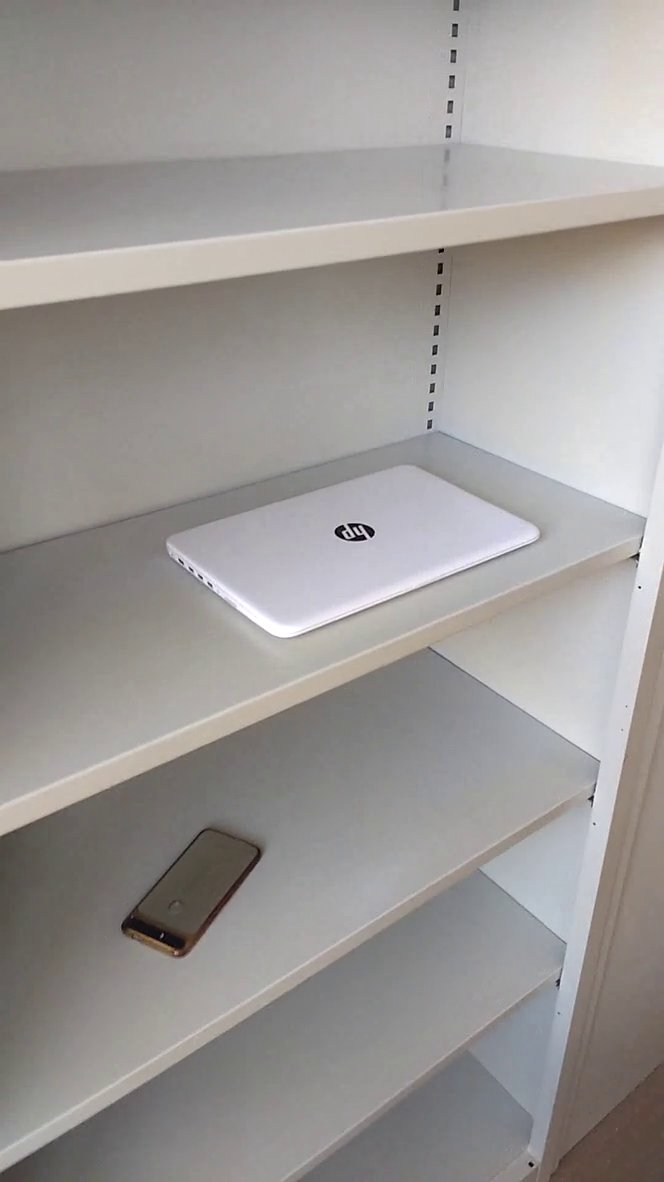laptop: (160, 457, 552, 647)
phone: (114, 819, 273, 967)
